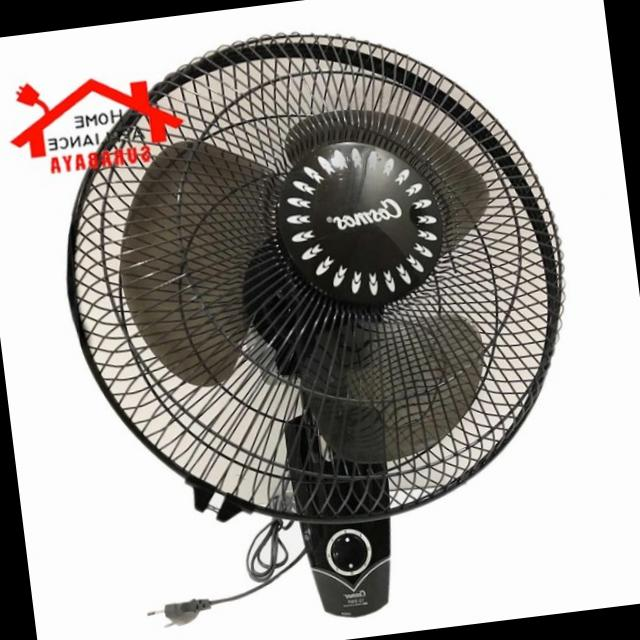fan: (32, 0, 618, 640)
